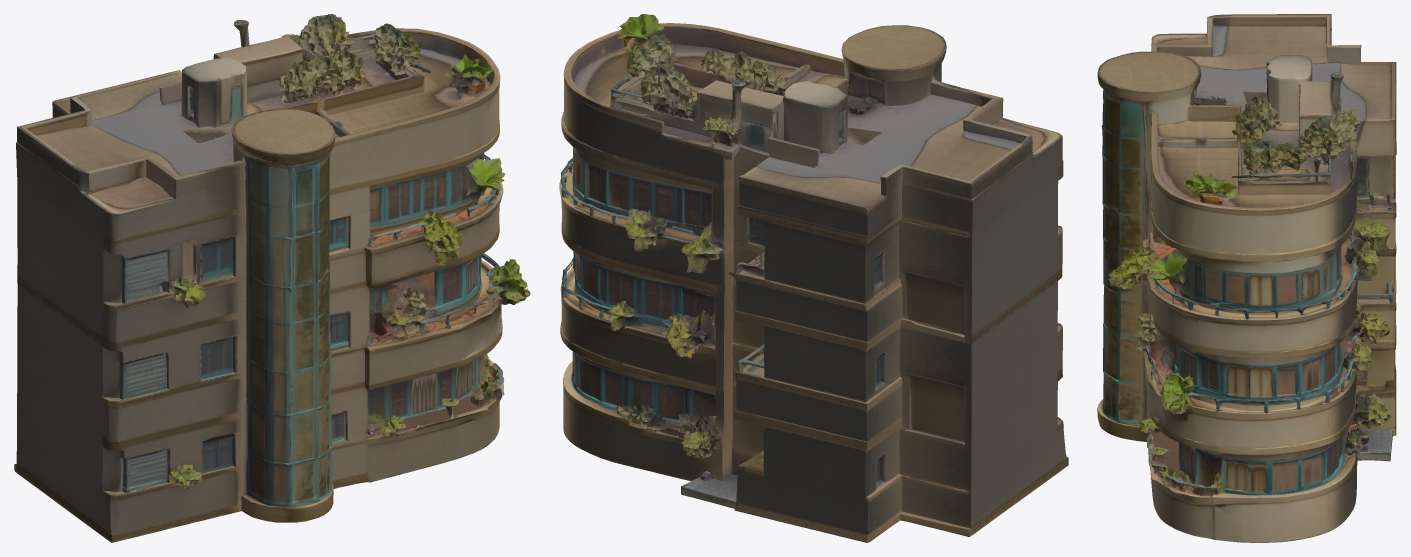
The model's file is bld_bauhaus_b.glb.
3 views of the same model, side by side, from view 1: azimuth 30°, elevation 25°; view 2: azimuth 150°, elevation 25°; view 3: azimuth 270°, elevation 25° (orthographic). The views are drawn at different scales.
Visible parts, largest first — view 1: geometry_0; view 2: geometry_0; view 3: geometry_0.
Boxes of the visible parts, x1,y1,x2,y2 form: geometry_0: (14, 14, 530, 542); geometry_0: (559, 14, 1068, 542); geometry_0: (1097, 14, 1396, 542).
Size of the model in its own units: 13.6 by 12 by 8.62.
1 material, 1 textured.
